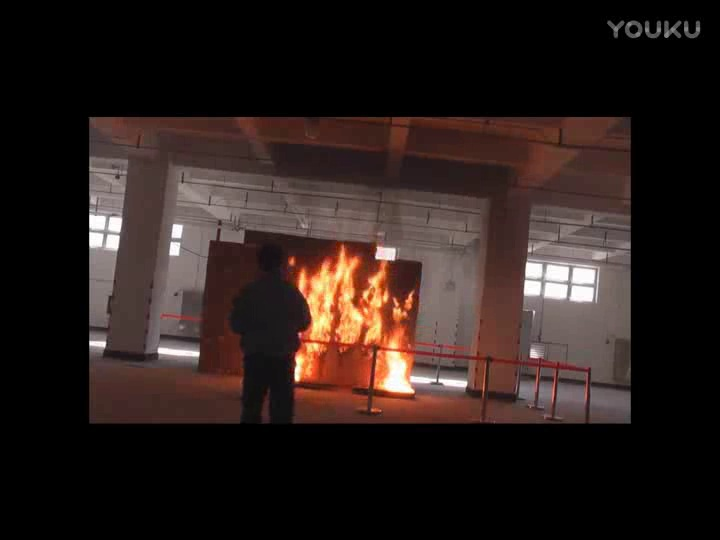fire: (292, 252, 420, 390)
